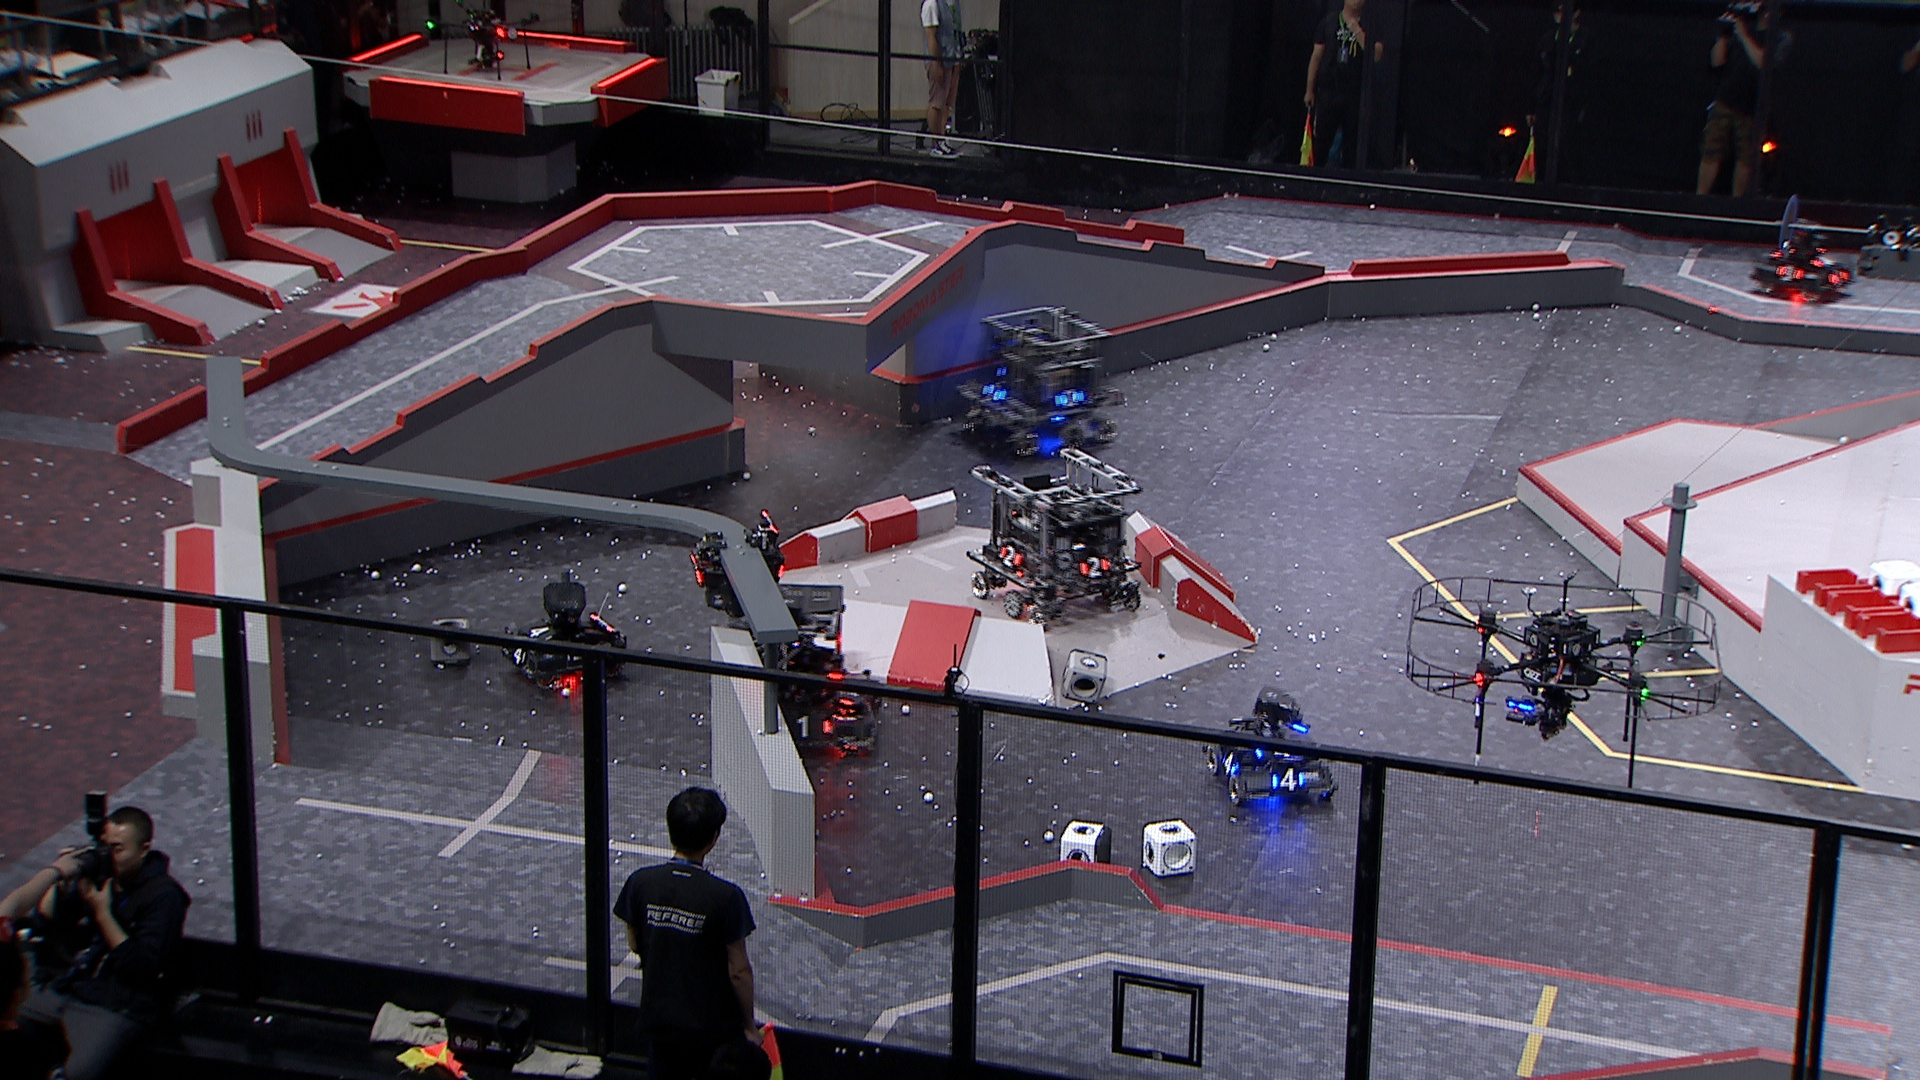armor: (785, 711, 836, 740), (1254, 731, 1299, 764), (835, 665, 866, 707), (1271, 766, 1305, 796), (1077, 553, 1112, 580), (522, 618, 555, 646), (978, 377, 1010, 404), (684, 551, 709, 584), (1216, 746, 1242, 777), (1058, 386, 1087, 413), (502, 640, 527, 669), (997, 541, 1022, 568), (1807, 249, 1837, 272), (1774, 262, 1803, 285), (1825, 268, 1850, 286)
car: (968, 452, 1138, 632), (724, 578, 887, 761), (953, 305, 1121, 458), (1203, 680, 1340, 812), (498, 575, 632, 694), (1749, 218, 1859, 309)
watcher: (684, 504, 798, 618)
